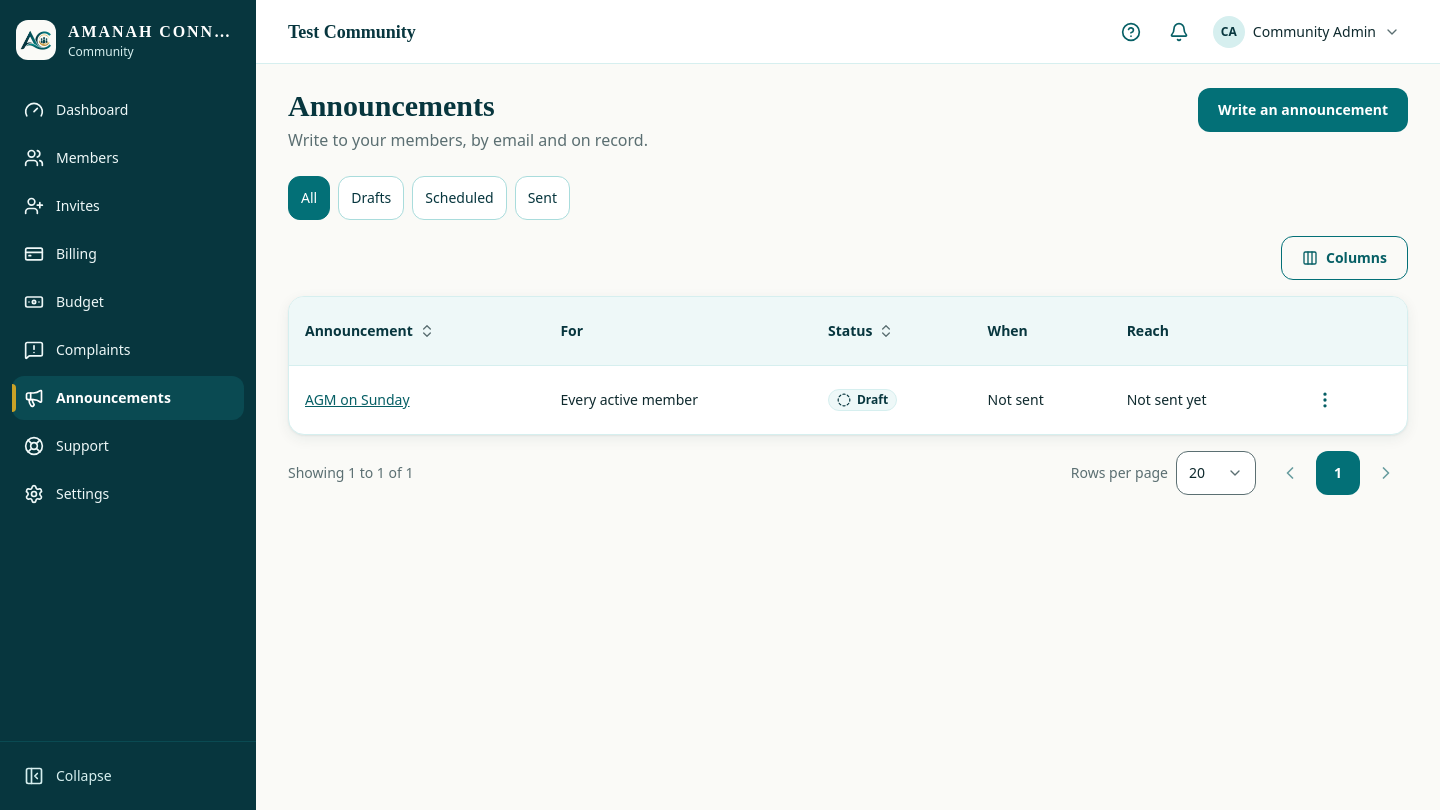
composer › refuses a link that is not http, https or mailto
This screenshot has width=1440, height=810.
Expected: the button "AGM on Sunday" is shown, [305,390,410,410]
Click the button named "Actions for AGM on Sunday" at coordinates (1325, 400), box [1303,378,1347,422]
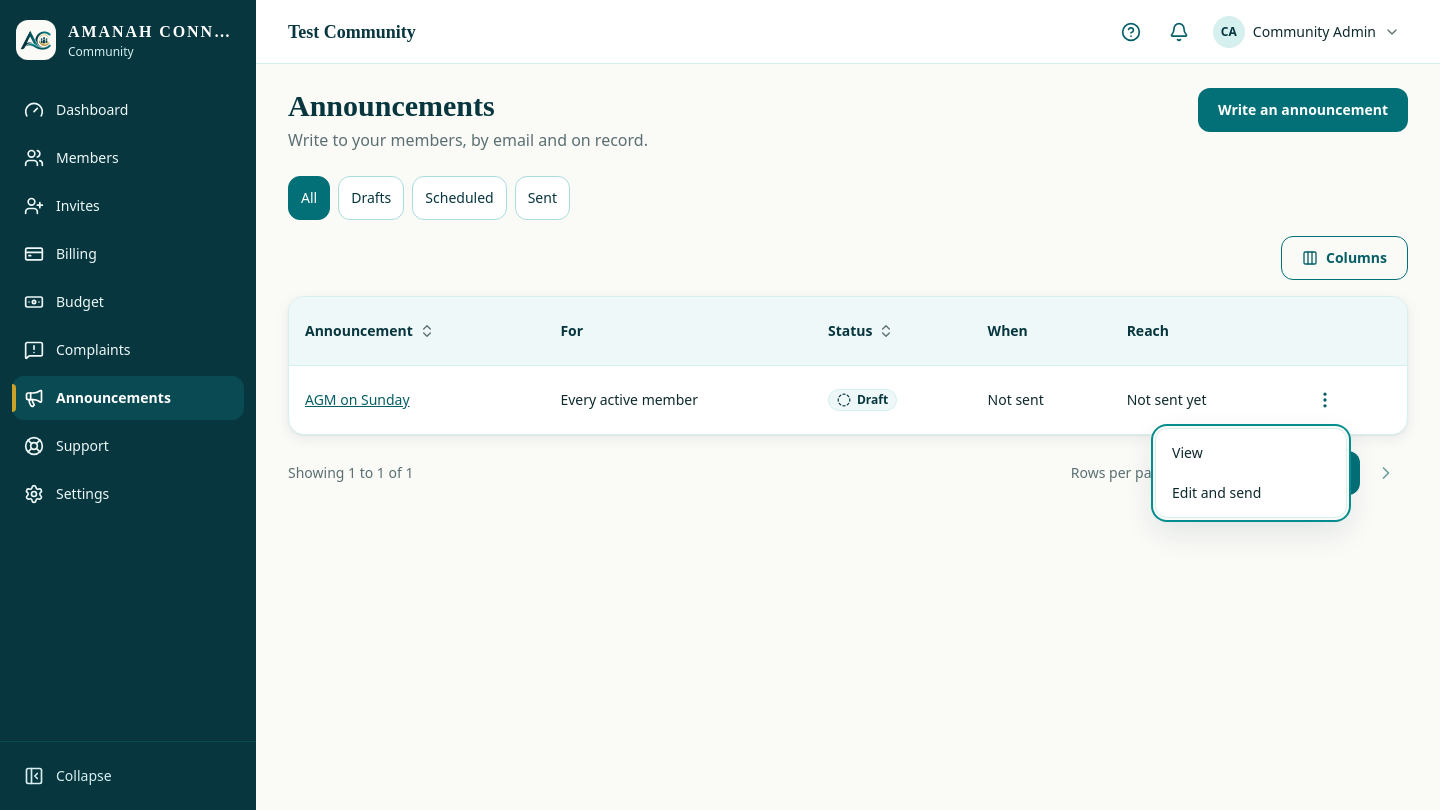
Click the menu item "Edit and send" at coordinates (1217, 492), box [1172,483,1261,502]
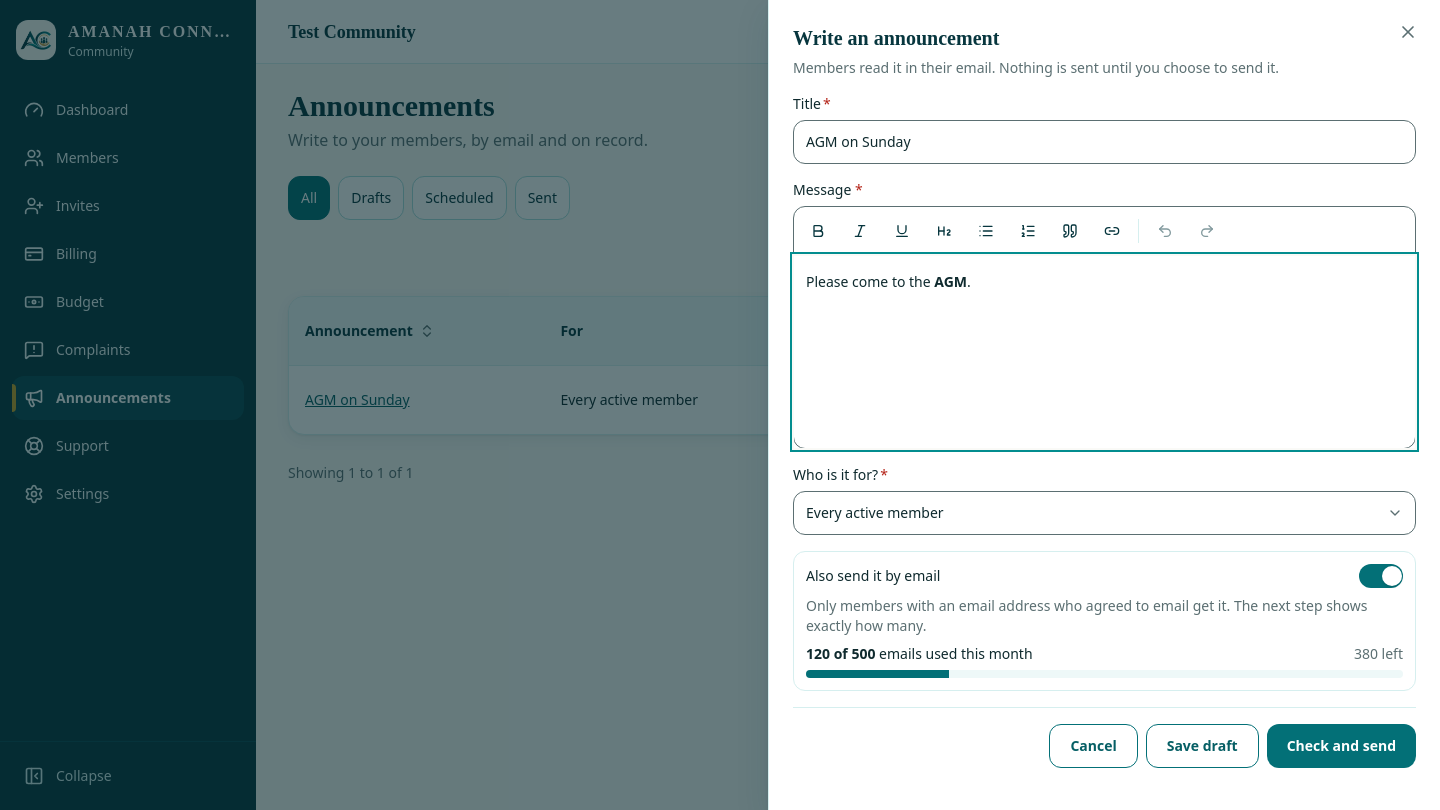
Click the button named "Link" at coordinates (1112, 231), box [1092,211,1132,251]
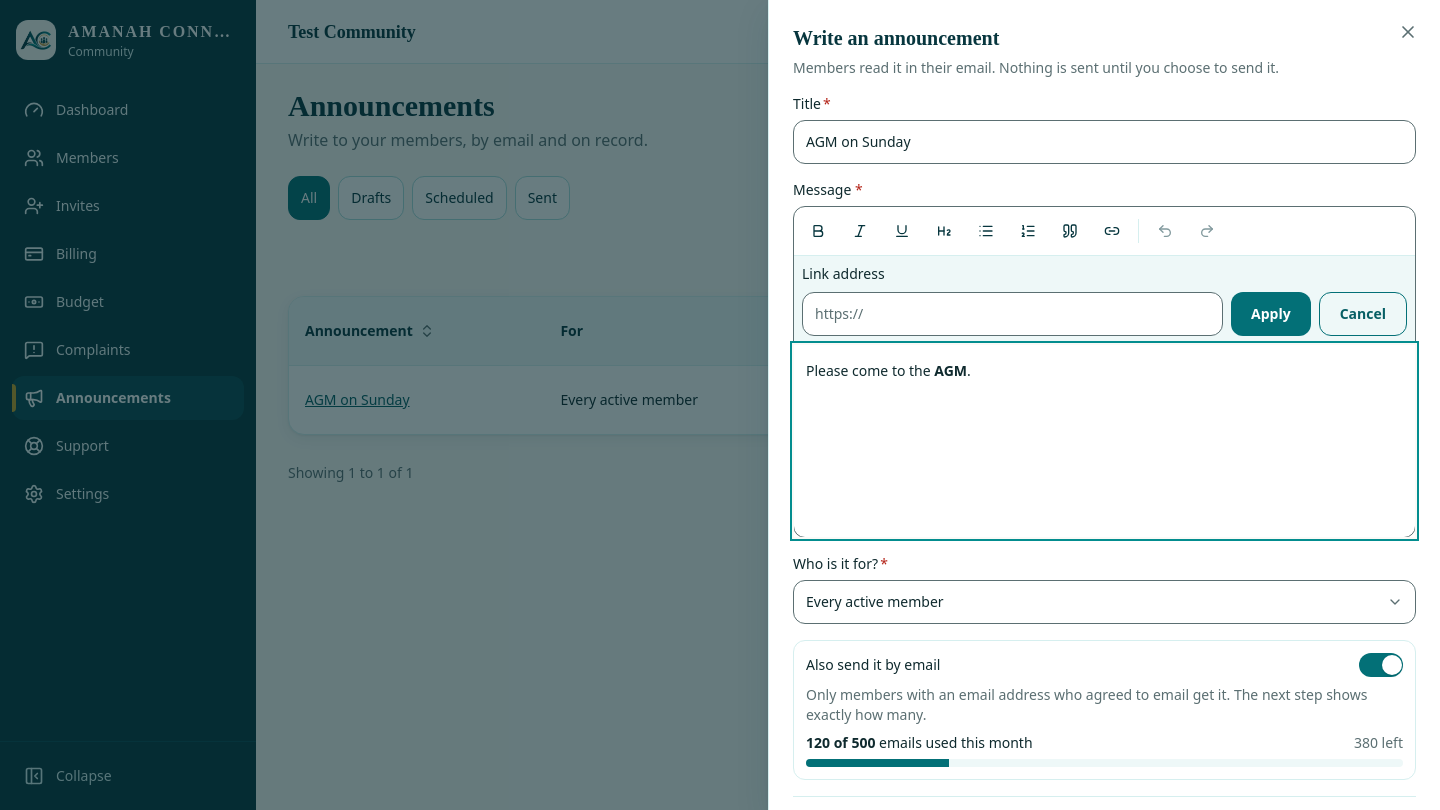
Type "javascript:alert(1)" into the field labelled "Link address" at coordinates (1013, 314), box [802,292,1223,336]
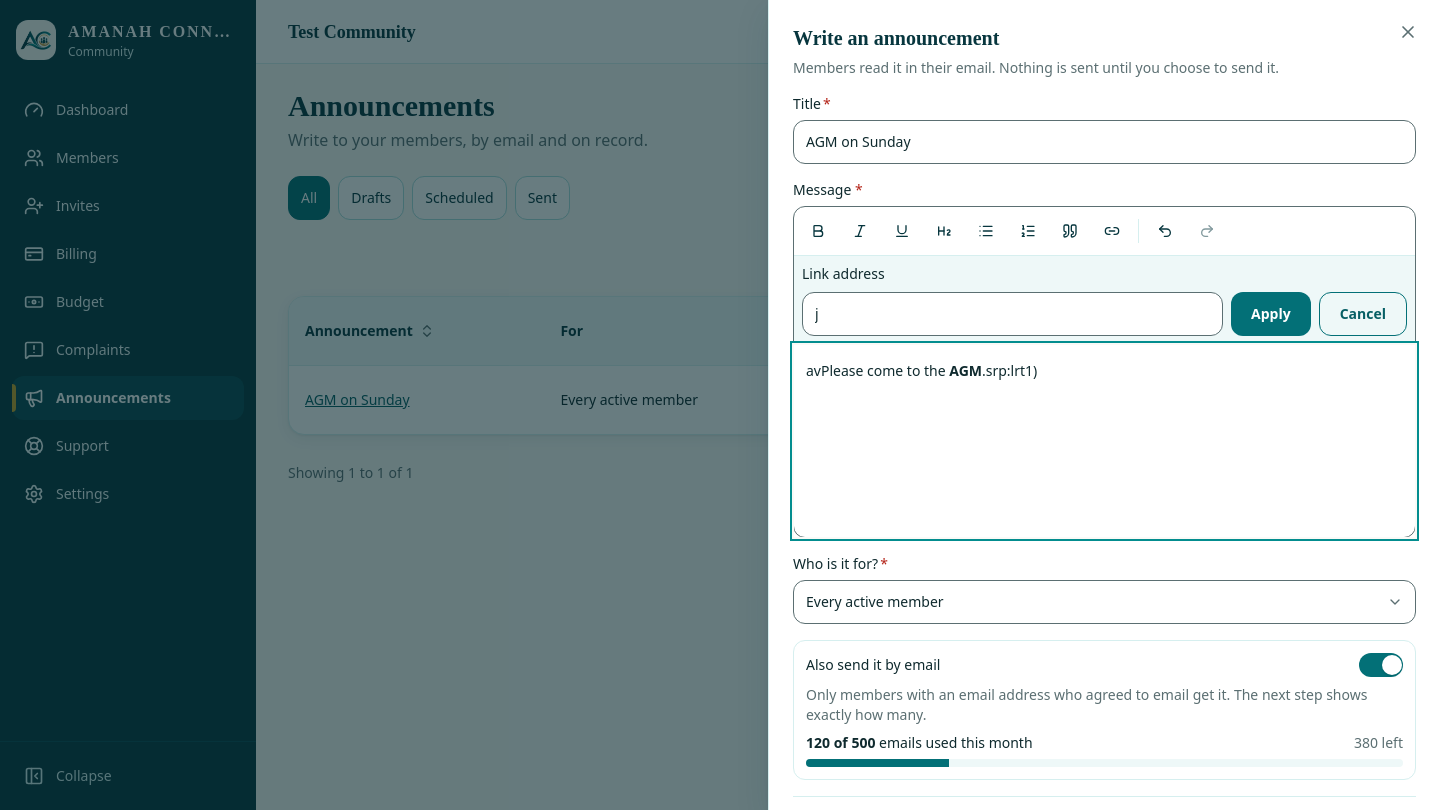
Click the button "Apply" at coordinates (1271, 314), box [1231,292,1311,336]
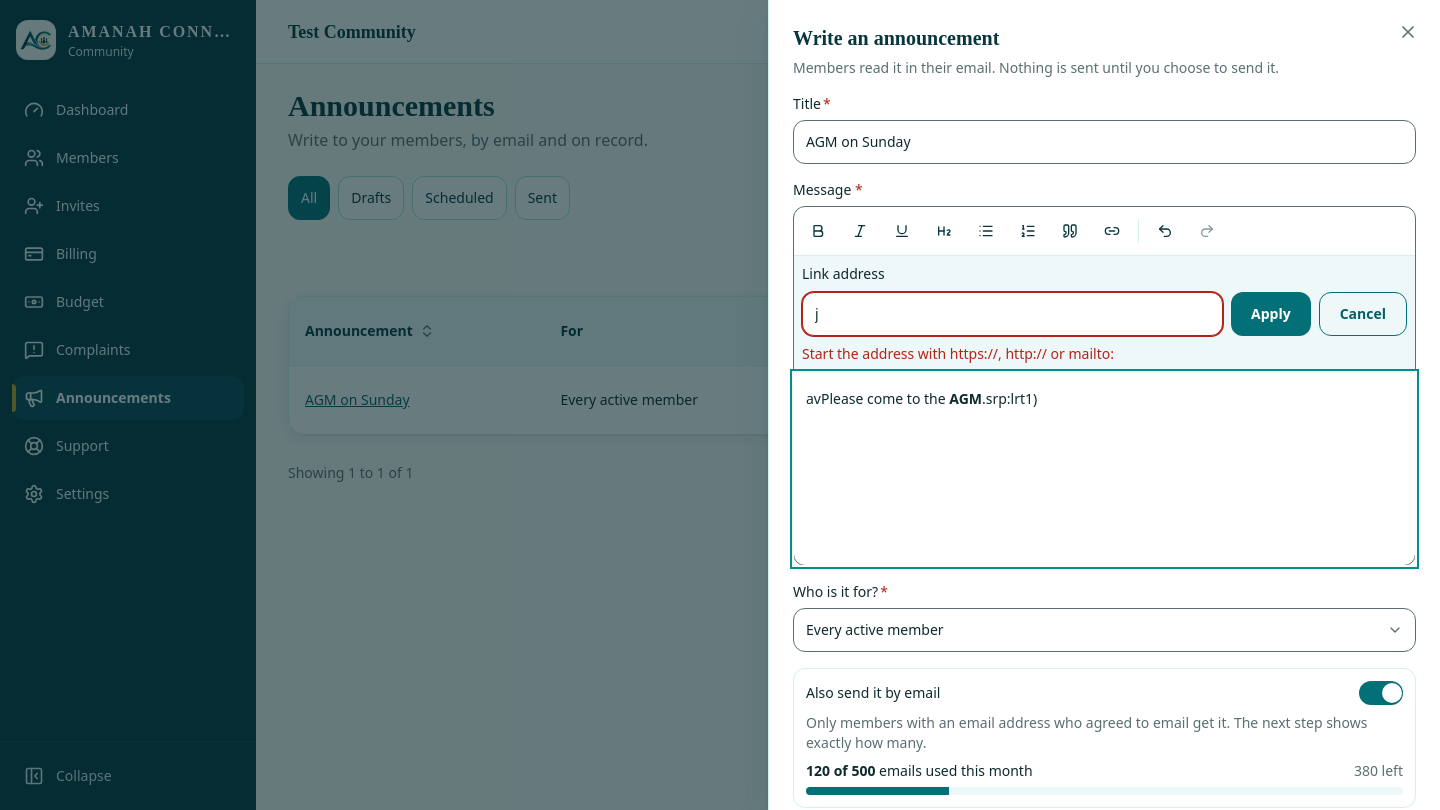
Expected: the message shows "https://", [802,344,1114,363]
